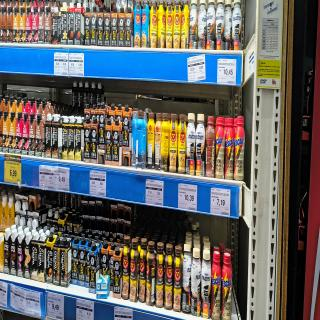Juice: (74, 2, 84, 46), (75, 116, 83, 162), (15, 111, 23, 156), (68, 118, 76, 162), (68, 1, 75, 46), (8, 112, 15, 155), (2, 111, 9, 153), (19, 9, 27, 43), (23, 113, 29, 154), (13, 8, 20, 43), (32, 8, 38, 44), (63, 117, 68, 160), (26, 8, 32, 43), (29, 96, 36, 118), (22, 98, 30, 117), (8, 96, 16, 114), (15, 97, 22, 115)
beverage: (35, 112, 45, 158), (52, 114, 62, 159), (45, 112, 52, 158), (44, 6, 52, 45), (51, 8, 59, 45), (29, 114, 36, 155), (38, 5, 45, 44), (6, 8, 13, 42), (0, 7, 6, 42)
